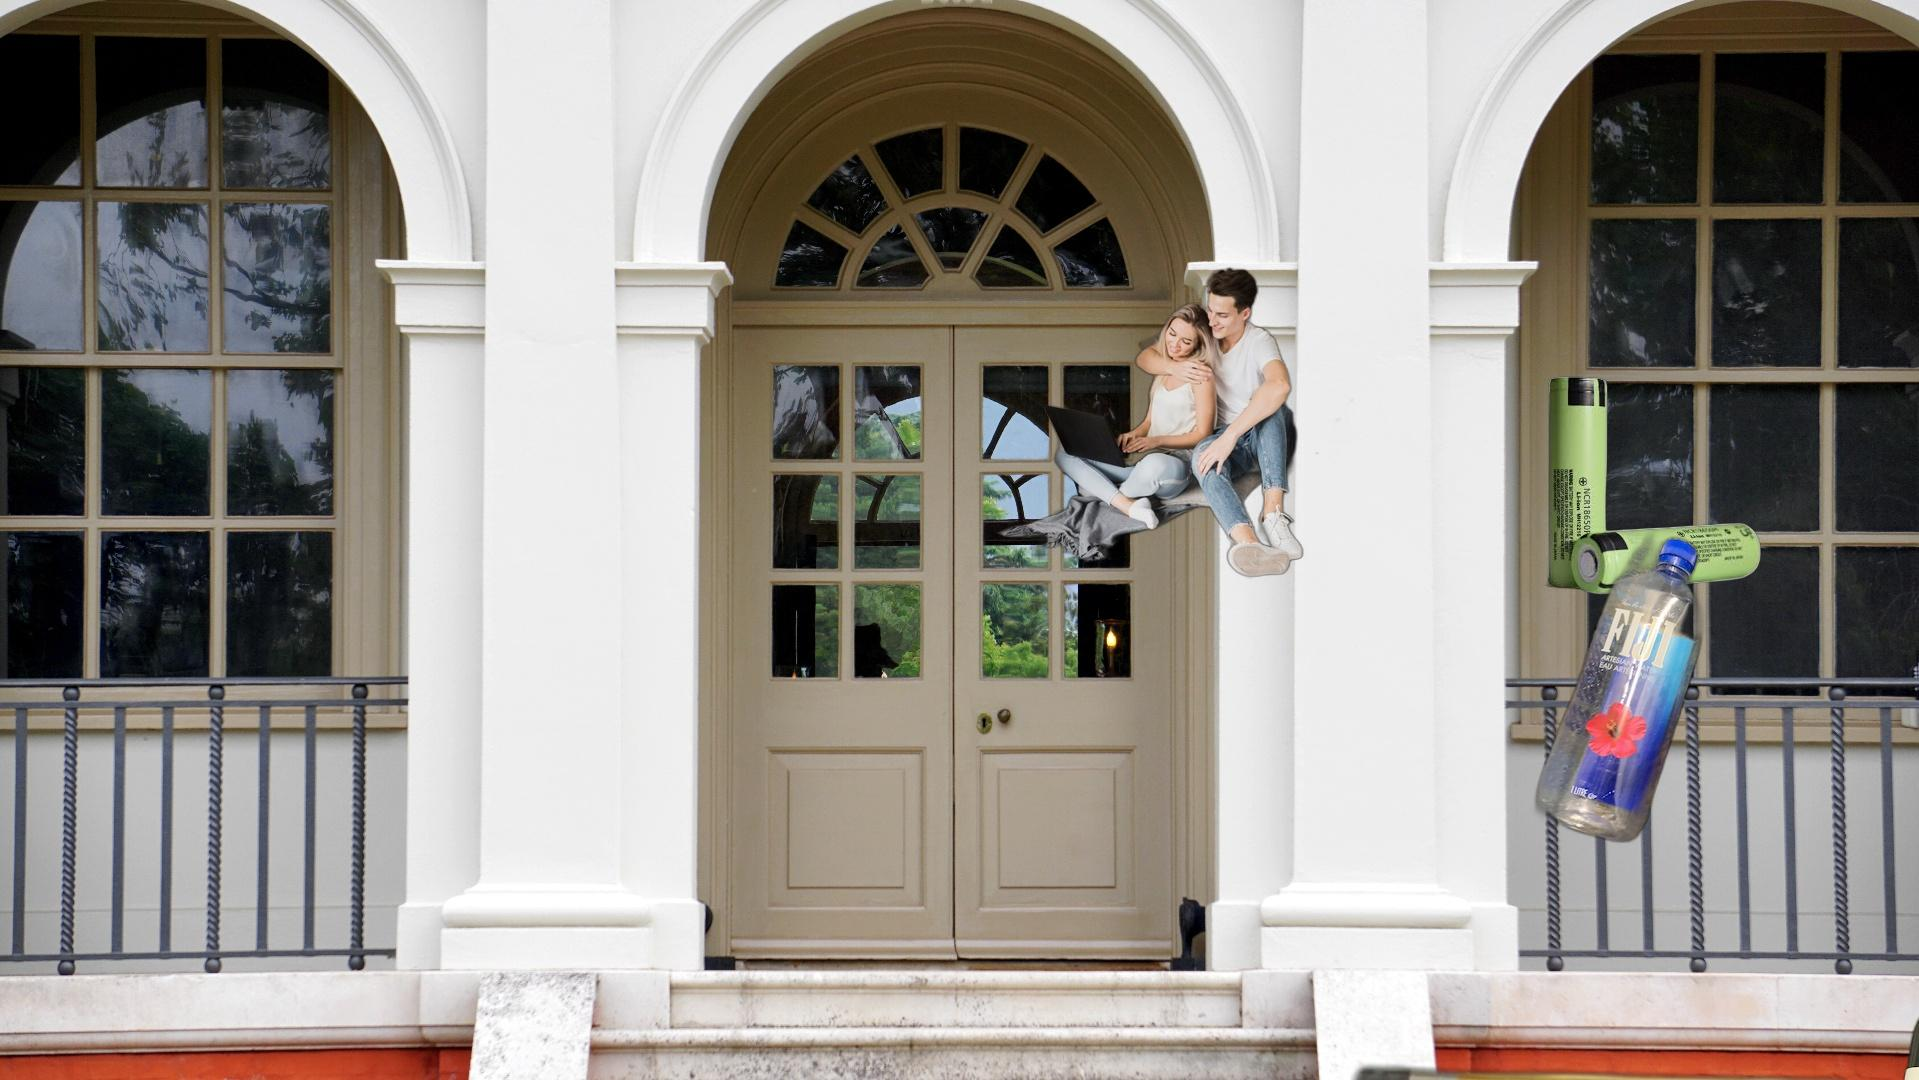battery: (1539, 375, 1763, 597), (770, 1054, 1919, 1080)
glass: (1858, 872, 1919, 1080)
plastic-bottles: (1530, 504, 1919, 955)
trashbox-cardboard: (983, 265, 1355, 582)
